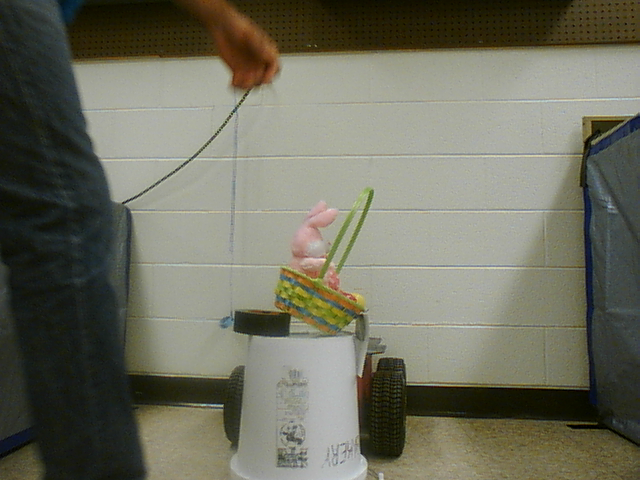bunny: (264, 172, 386, 338)
